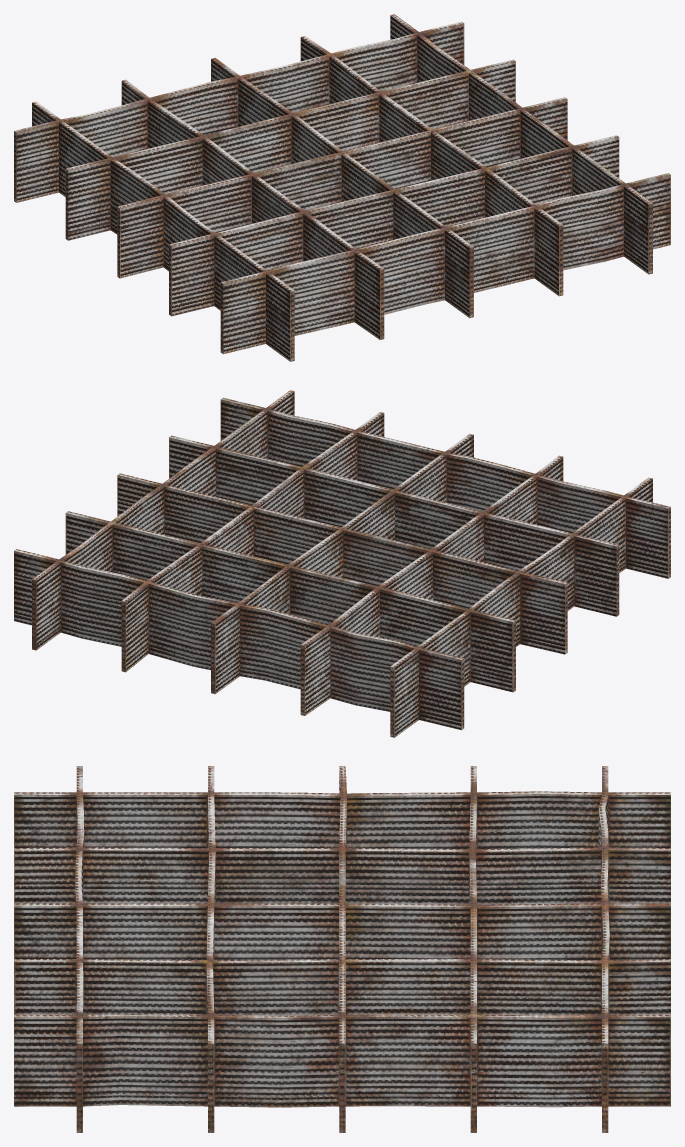
Rendered from Wiremesh_01a_snaps005.fbx.
3 views of the same model, one above another, from view 1: azimuth 30°, elevation 25°; view 2: azimuth 150°, elevation 25°; view 3: azimuth 270°, elevation 25° (orthographic). The views are drawn at different scales.
Parts seen in each view (by area): view 1: Wiremesh_01a_snaps005_LOD0; view 2: Wiremesh_01a_snaps005_LOD0; view 3: Wiremesh_01a_snaps005_LOD0.
Boxes of the visible parts, x1,y1,x2,y2 form: Wiremesh_01a_snaps005_LOD0: [14, 14, 670, 361]; Wiremesh_01a_snaps005_LOD0: [14, 390, 670, 737]; Wiremesh_01a_snaps005_LOD0: [14, 766, 670, 1132].
Size of what is drawn, in the model's own units: 100 by 15.61 by 100.
